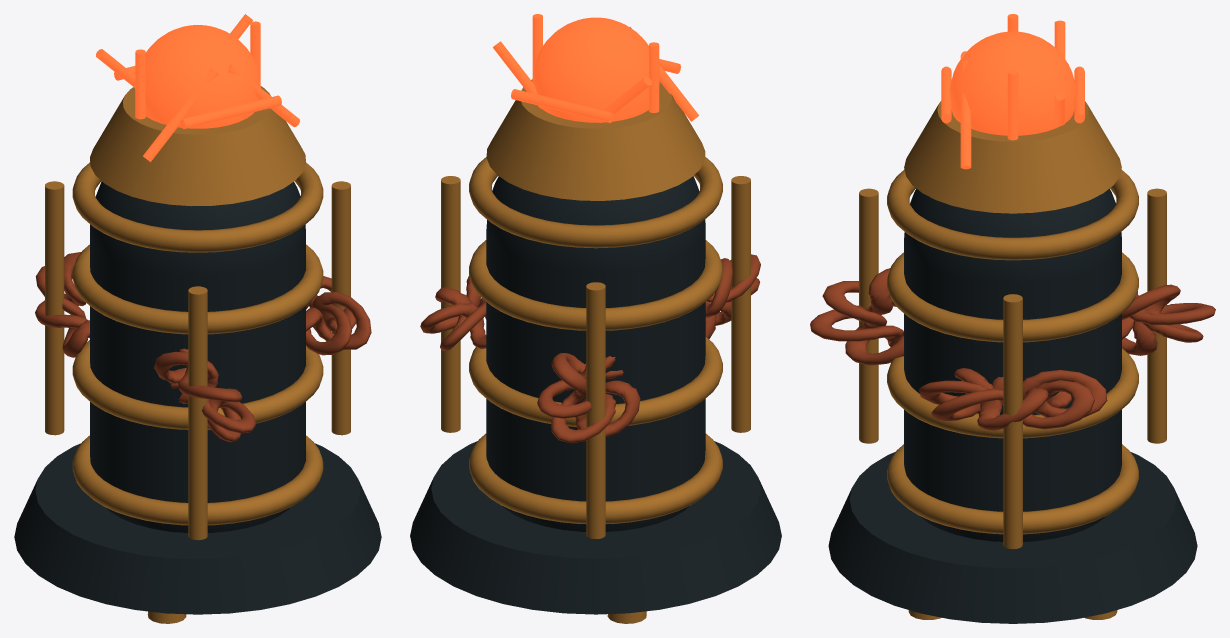
Rendered from black-canister-reactor.gltf.
3 views of the same model, side by side, from view 1: azimuth 30°, elevation 25°; view 2: azimuth 150°, elevation 25°; view 3: azimuth 270°, elevation 25° (orthographic).
Visible parts, largest first — view 1: original-black-canister-auxiliary-reactor, armored-reactor-base; view 2: original-black-canister-auxiliary-reactor, armored-reactor-base; view 3: original-black-canister-auxiliary-reactor, armored-reactor-base.
Boxes of the visible parts, <box> form: original-black-canister-auxiliary-reactor: <box>35,14,371,623</box>; armored-reactor-base: <box>14,443,381,614</box>; original-black-canister-auxiliary-reactor: <box>420,14,760,623</box>; armored-reactor-base: <box>410,441,781,614</box>; original-black-canister-auxiliary-reactor: <box>810,14,1215,619</box>; armored-reactor-base: <box>828,452,1197,623</box>.
Bounding box in the file's own units: 2.44 × 3.93 × 2.68.
